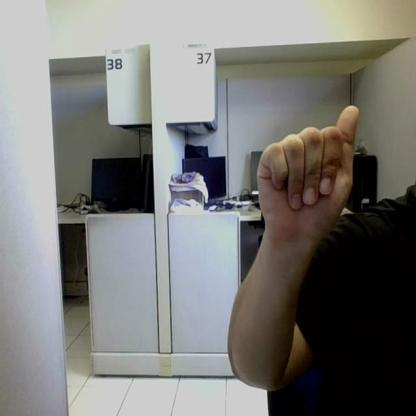A: (258, 106, 358, 242)
